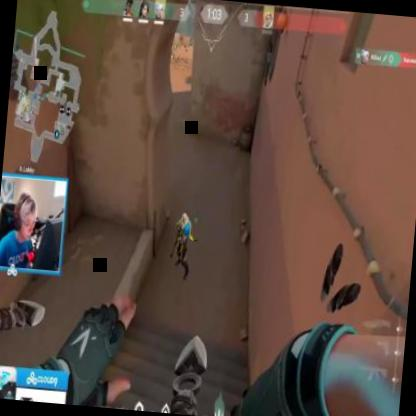enemy: (170, 209, 199, 280)
enemy_head: (181, 213, 187, 225)
